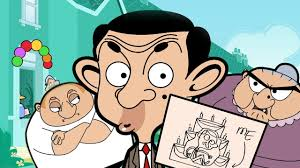mrbean: (71, 9, 229, 168)
